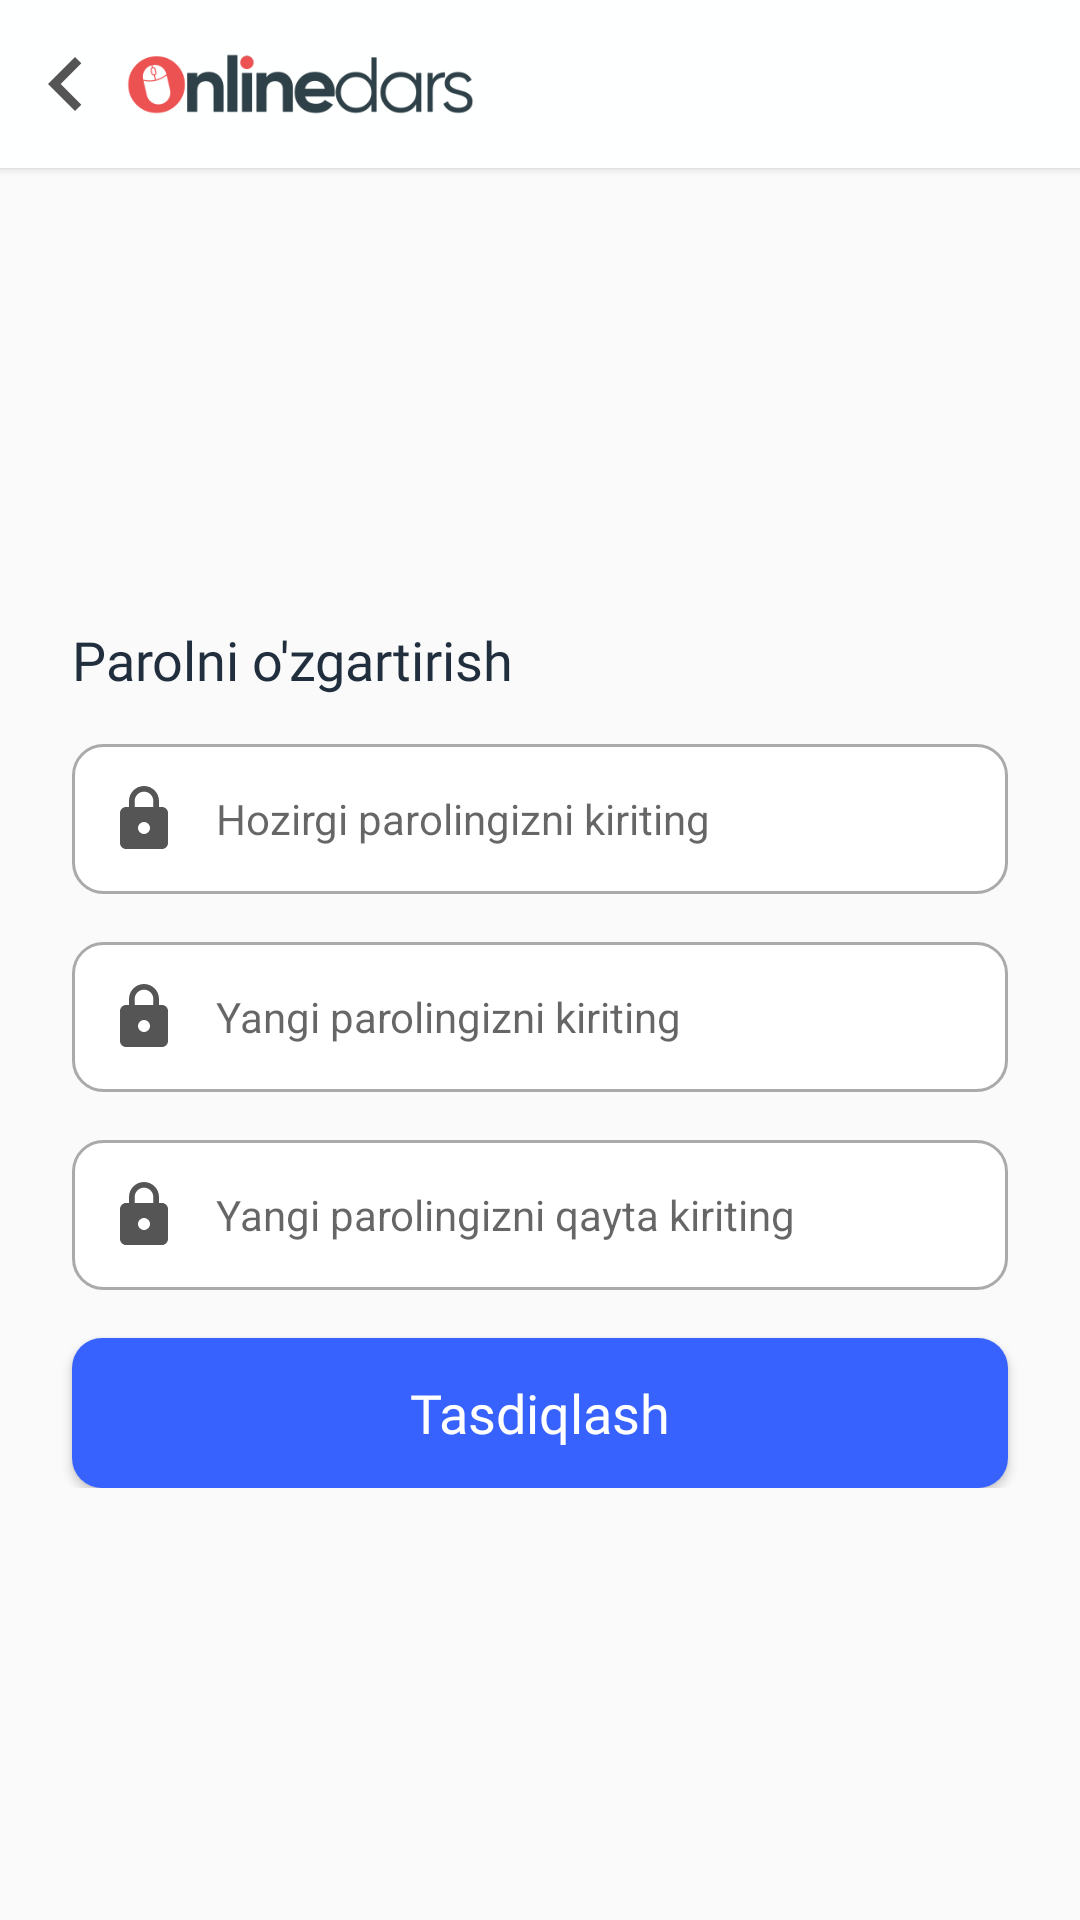

Icons on this 1080*1920 Android screen, each with its box as (x1, y1, x2, y2):
chevron left toolbar: (48, 57, 81, 111)
